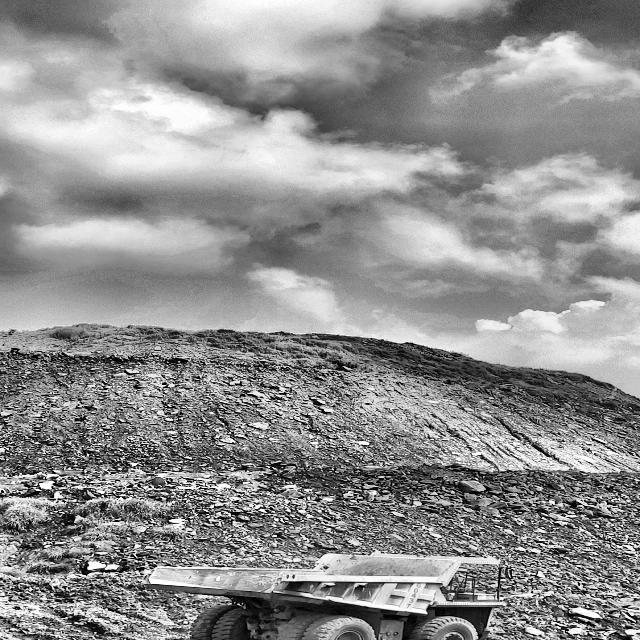dump_truck: (147, 552, 503, 640)
